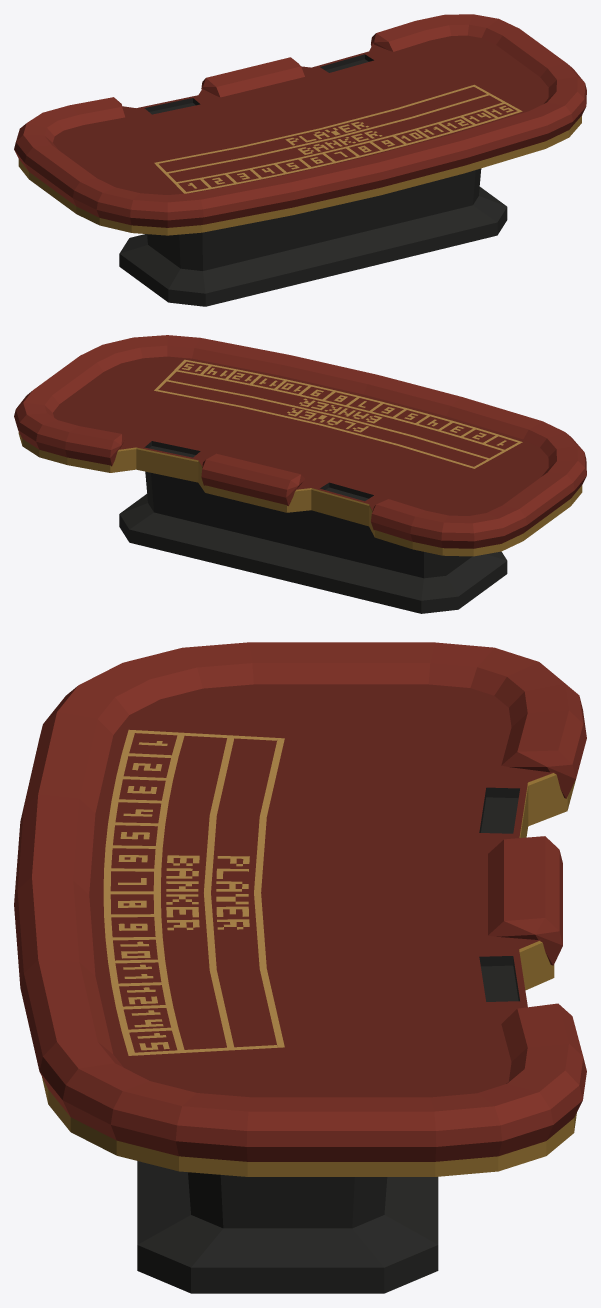
The model's file is baccarat-table-8b4183.glb.
The picture shows the model from 3 angles, top to bottom: view 1: azimuth 30°, elevation 25°; view 2: azimuth 150°, elevation 25°; view 3: azimuth 270°, elevation 25°; orthographic projection. The views are drawn at different scales.
Visible parts, largest first — view 1: baccarat-table-body; view 2: baccarat-table-body; view 3: baccarat-table-body.
Part boxes in pixels (x1,y1,x2,y2): baccarat-table-body: [14, 14, 586, 306]; baccarat-table-body: [14, 335, 586, 613]; baccarat-table-body: [14, 642, 586, 1293].
Size of the model in its own units: 3.2 by 0.78 by 1.6.
